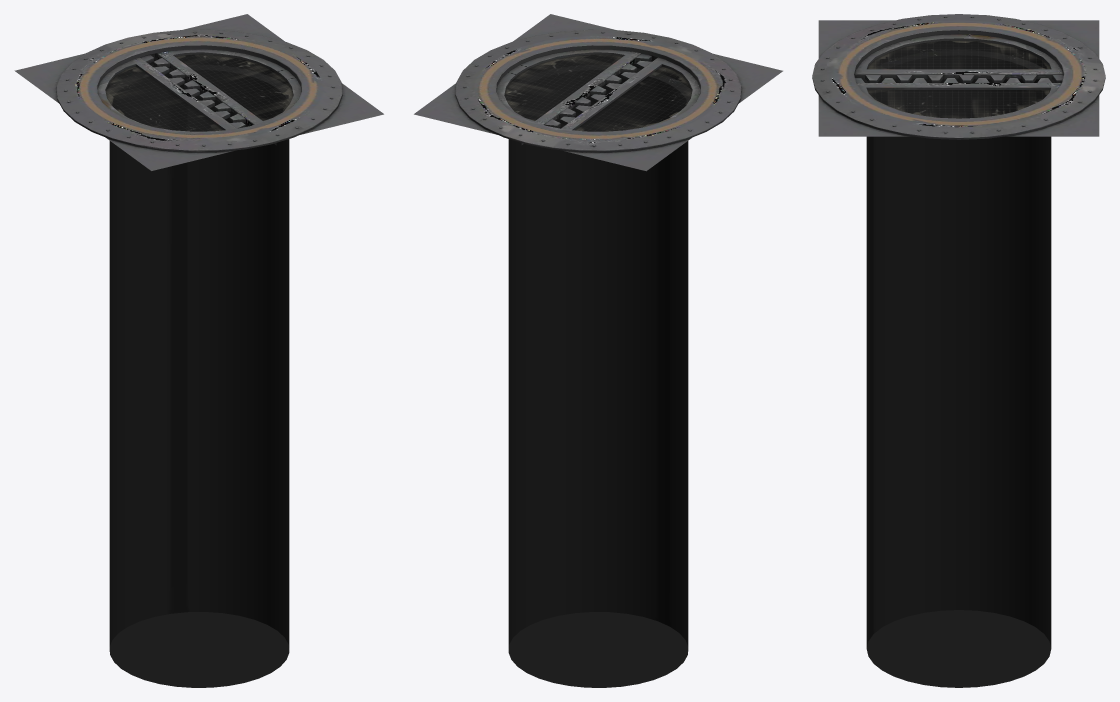
The picture shows the model from 3 angles, left to right: view 1: azimuth 30°, elevation 25°; view 2: azimuth 150°, elevation 25°; view 3: azimuth 270°, elevation 25°; orthographic projection. The views are drawn at different scales.
Parts seen in each view (by area): view 1: body0_model0_lod0_mesh0, body0_model0_lod0_mesh1; view 2: body0_model0_lod0_mesh0, body0_model0_lod0_mesh1; view 3: body0_model0_lod0_mesh0, body0_model0_lod0_mesh1.
Part boxes in pixels (bbox=[...]): body0_model0_lod0_mesh0: bbox=[14, 14, 383, 687]; body0_model0_lod0_mesh1: bbox=[106, 54, 292, 131]; body0_model0_lod0_mesh0: bbox=[414, 14, 782, 687]; body0_model0_lod0_mesh1: bbox=[505, 54, 691, 131]; body0_model0_lod0_mesh0: bbox=[812, 14, 1105, 687]; body0_model0_lod0_mesh1: bbox=[868, 41, 1050, 118].
Size of the model in its own units: 400 by 864 by 400.
Materials: 2 (2 with a texture image).
